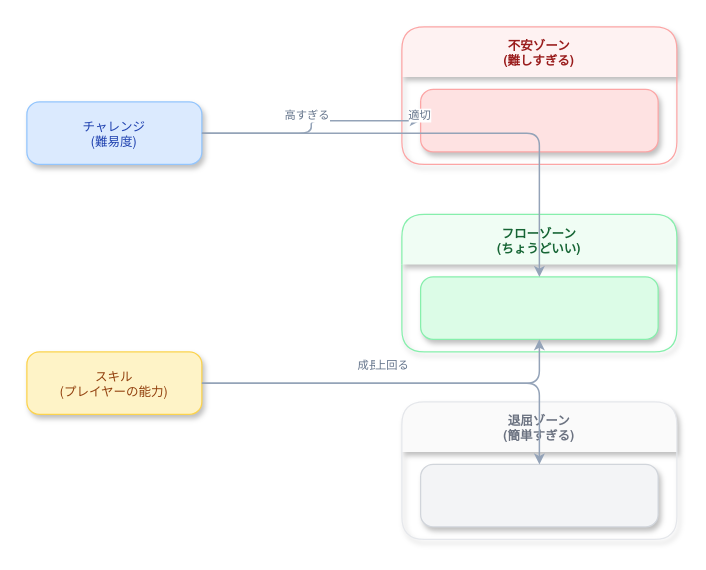
The diagram is 706 pixels wide and 570 high, and some of its shapes have lost their labels. The shapes that lost their labels are listed below. From the top down, each one's centre as x and y in pixels, then its label:
[540,122]: 挫折・離脱 パターンが複雑すぎて 脳が処理できない
[540,309]: 楽しさの最大化 パターンが徐々に 解き明かされていく
[540,497]: 飽き・離脱 パターンを完全に習得し 新しい発見がない
